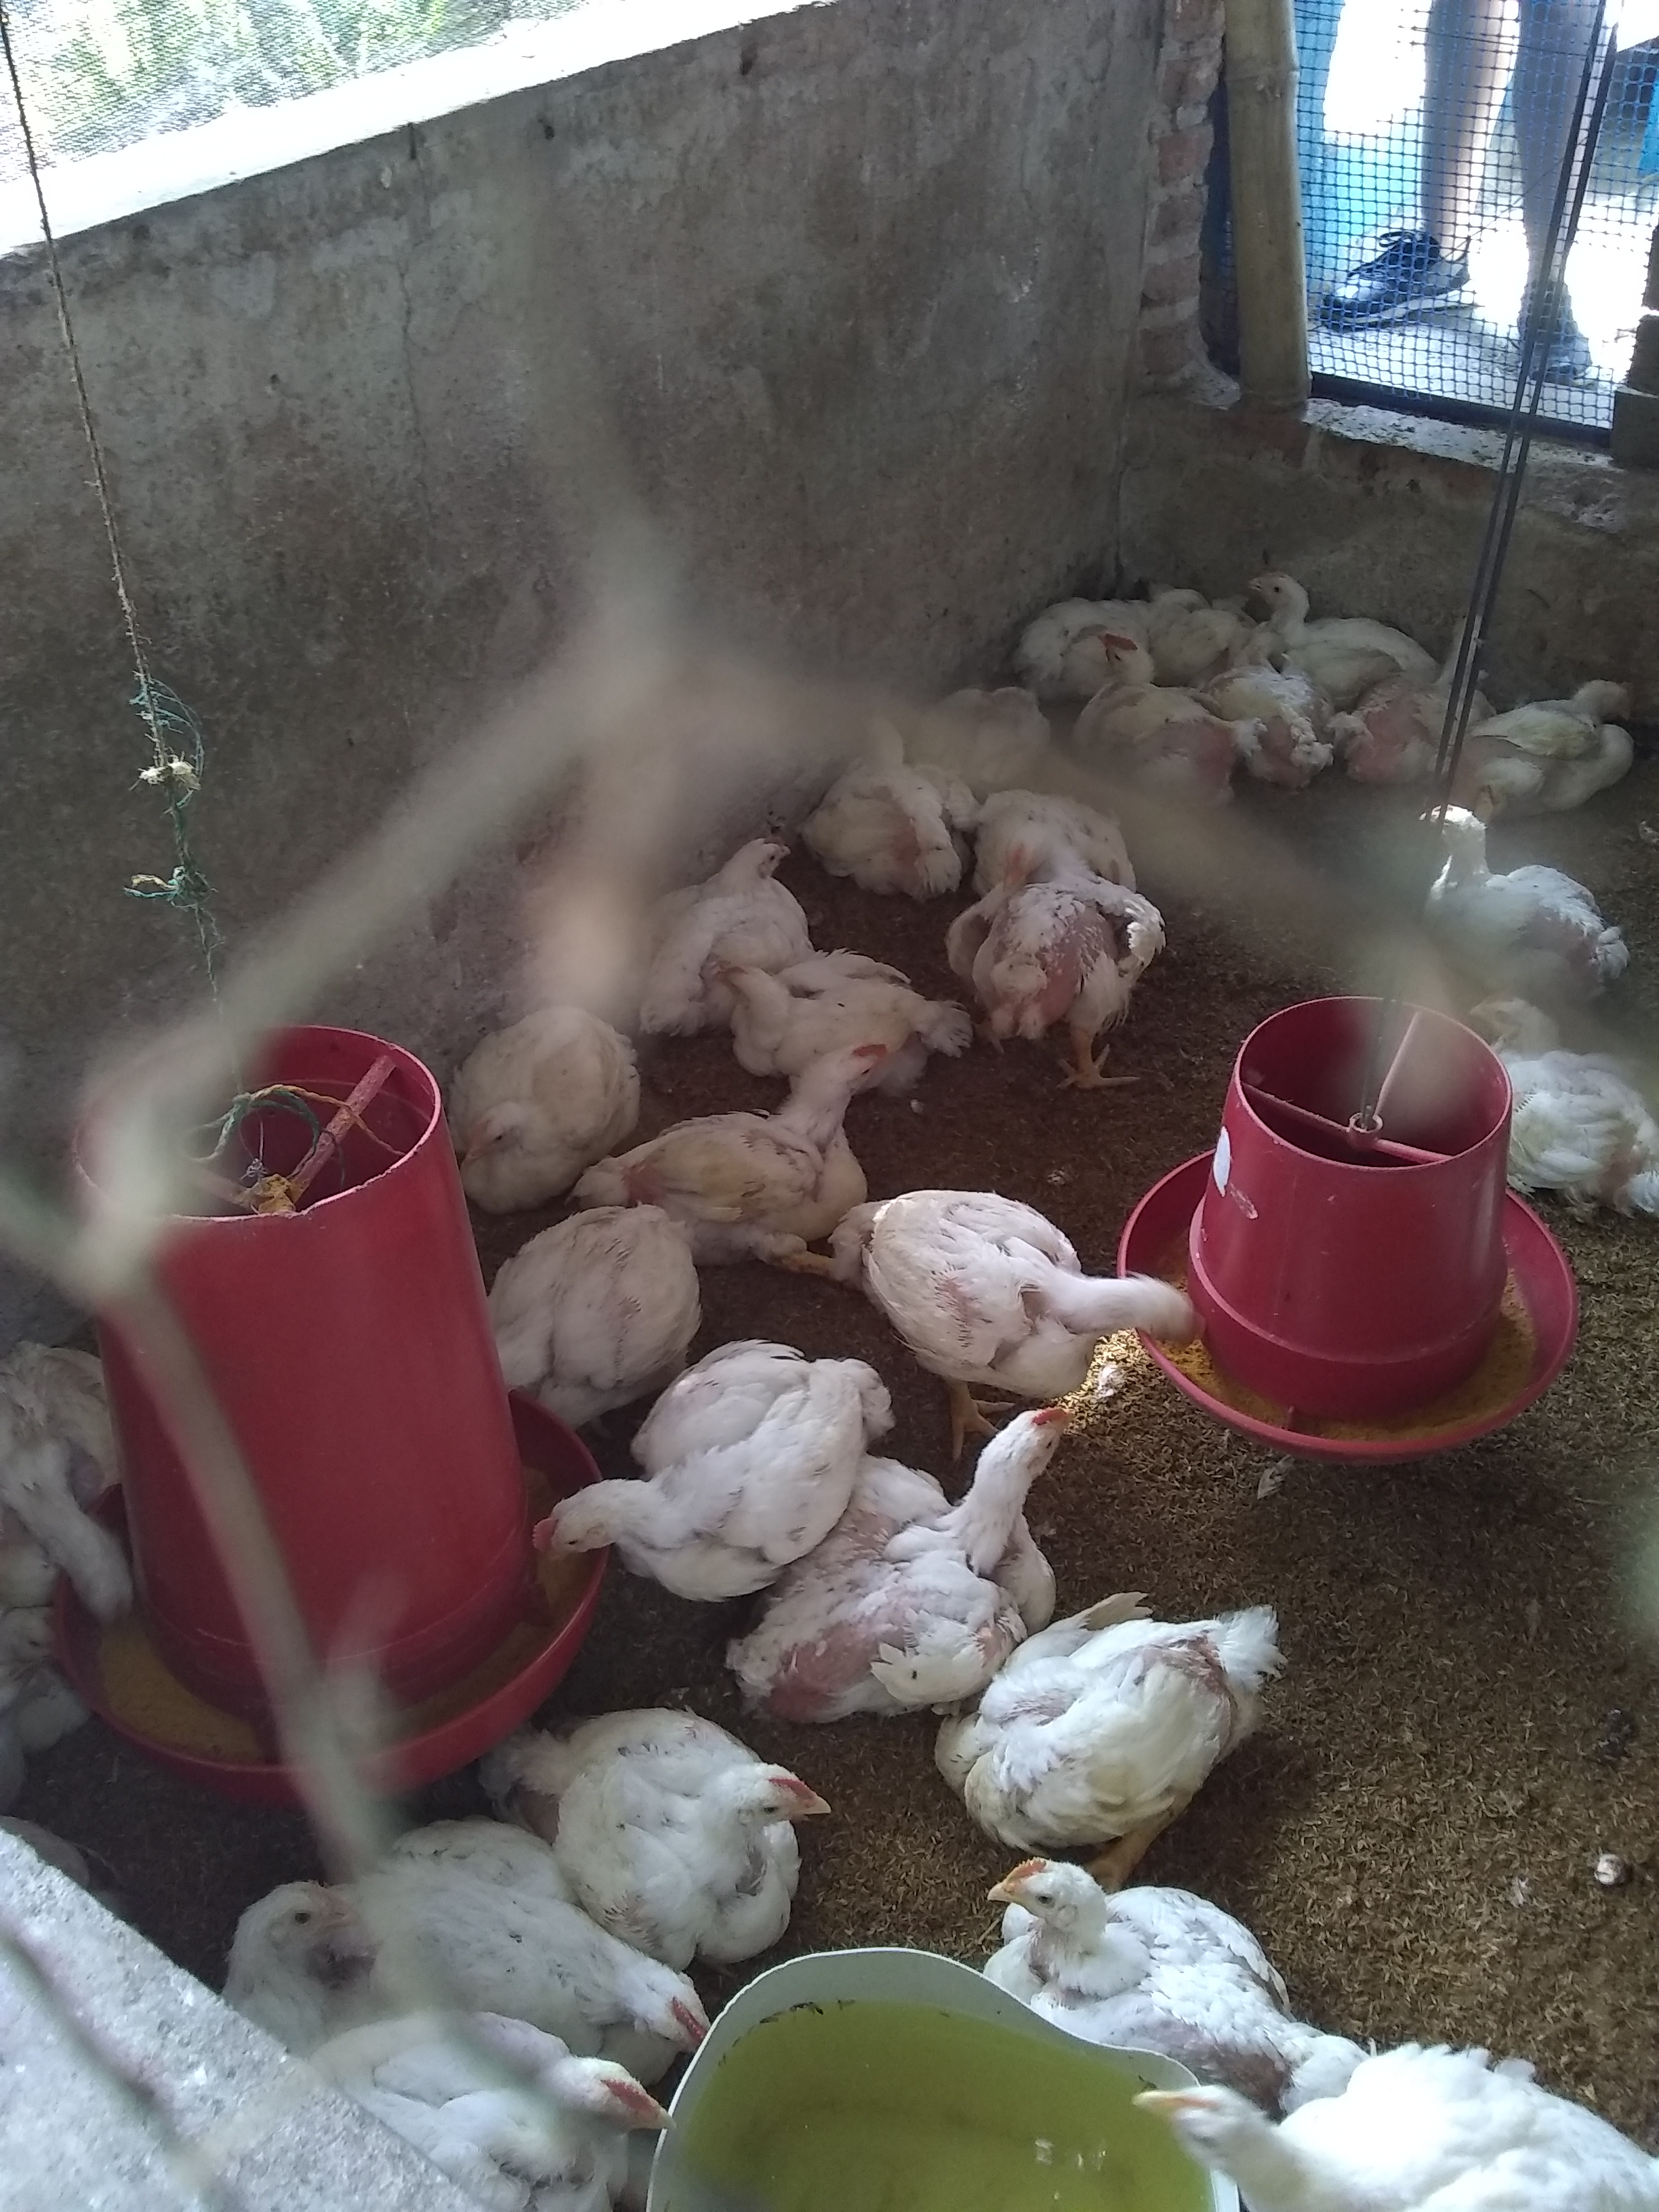Pollos: (957, 1595, 1290, 1832), (1127, 2057, 1631, 2212), (871, 1181, 1201, 1388), (544, 1357, 838, 1578), (847, 1402, 1075, 1667), (601, 1719, 833, 1956), (981, 1851, 1263, 2029), (701, 1035, 903, 1247), (972, 815, 1162, 1035), (1419, 801, 1638, 986), (1476, 989, 1657, 1204), (486, 1204, 685, 1390), (457, 1008, 638, 1209), (416, 2031, 678, 2167), (1070, 632, 1267, 808), (532, 1904, 725, 2055), (814, 718, 971, 890), (1460, 676, 1642, 805), (1237, 566, 1432, 681), (704, 949, 847, 1071), (223, 1876, 350, 2000), (662, 834, 802, 946)
